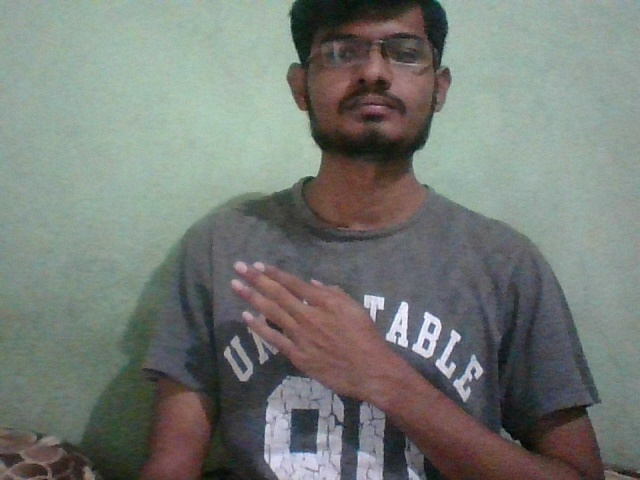no: (221, 255, 420, 388)
